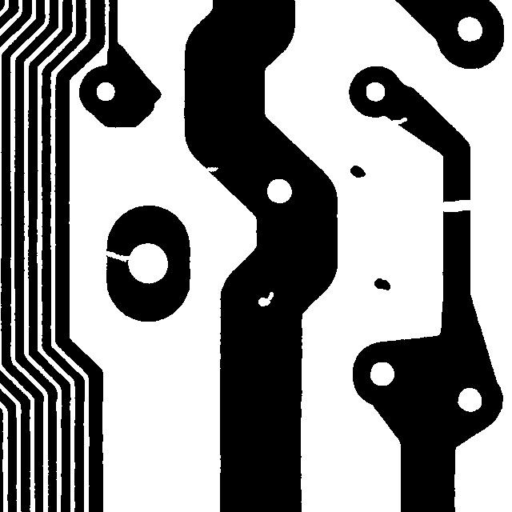copper: (366, 270, 398, 298), (342, 158, 373, 185)
mousebite: (383, 110, 414, 133), (192, 159, 226, 179)
open: (433, 192, 483, 219), (93, 241, 138, 270)
pin-hole: (250, 284, 281, 314)
